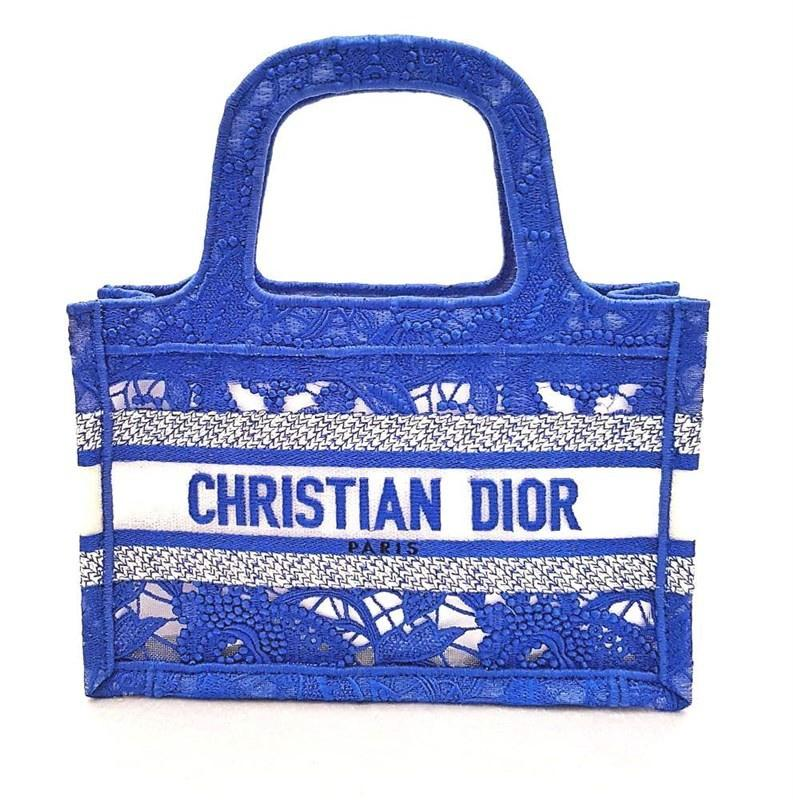DIOR: (176, 436, 598, 566)
